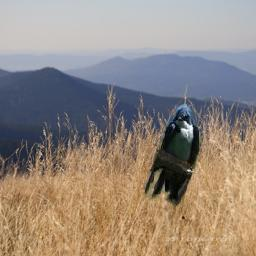Swallow: (143, 104, 202, 210)
